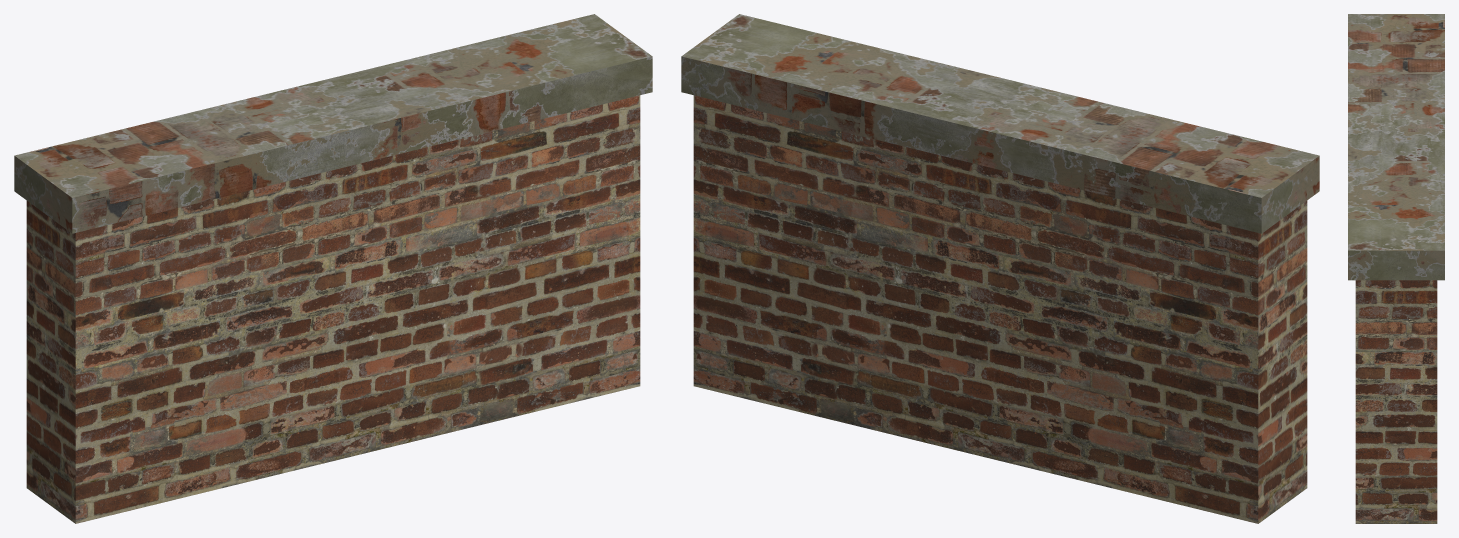
The model's file is Victorian Wall 1.fbx.
3 views of the same model, side by side, from view 1: azimuth 30°, elevation 25°; view 2: azimuth 150°, elevation 25°; view 3: azimuth 270°, elevation 25° (orthographic). The views are drawn at different scales.
Visible parts, largest first — view 1: Cube; view 2: Cube; view 3: Cube.
Part boxes in pixels (bbox=[...]): Cube: bbox=[14, 14, 652, 523]; Cube: bbox=[681, 14, 1319, 523]; Cube: bbox=[1348, 14, 1444, 523].
Size of the model in its own units: 411 by 224 by 71.14.
